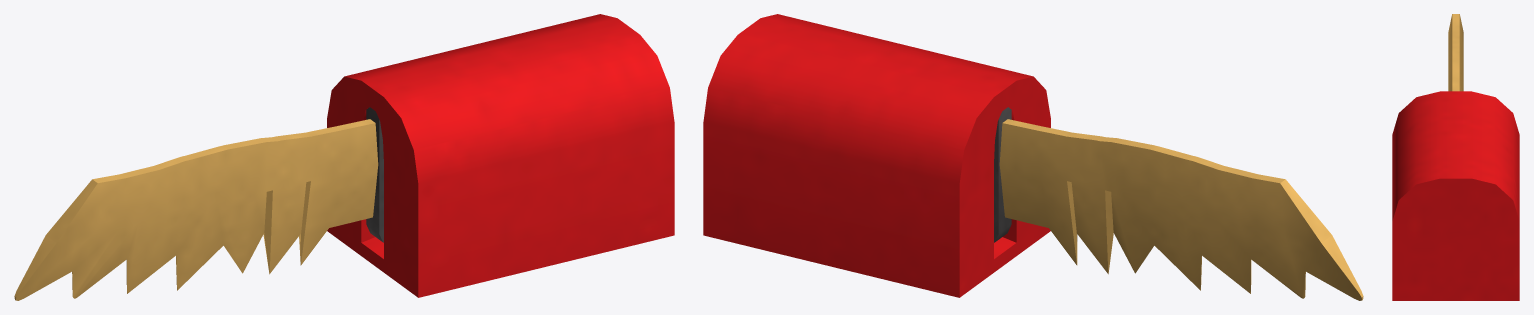
File: knife.fbx
3 renders of one model, left to right at view 1: azimuth 30°, elevation 25°; view 2: azimuth 150°, elevation 25°; view 3: azimuth 270°, elevation 25°, orthographic. The views are drawn at different scales.
Parts seen in each view (by area): view 1: Cube.003, Cube.005; view 2: Cube.003, Cube.005; view 3: Cube.003, Cube.005.
Boxes of the visible parts, <box> form: Cube.003: <box>327,14,674,297</box>; Cube.005: <box>14,107,383,300</box>; Cube.003: <box>703,14,1050,297</box>; Cube.005: <box>994,107,1363,300</box>; Cube.003: <box>1392,91,1519,300</box>; Cube.005: <box>1448,14,1463,91</box>.
Bounding box in the file's own units: 86.5 × 23.65 × 22.3.
